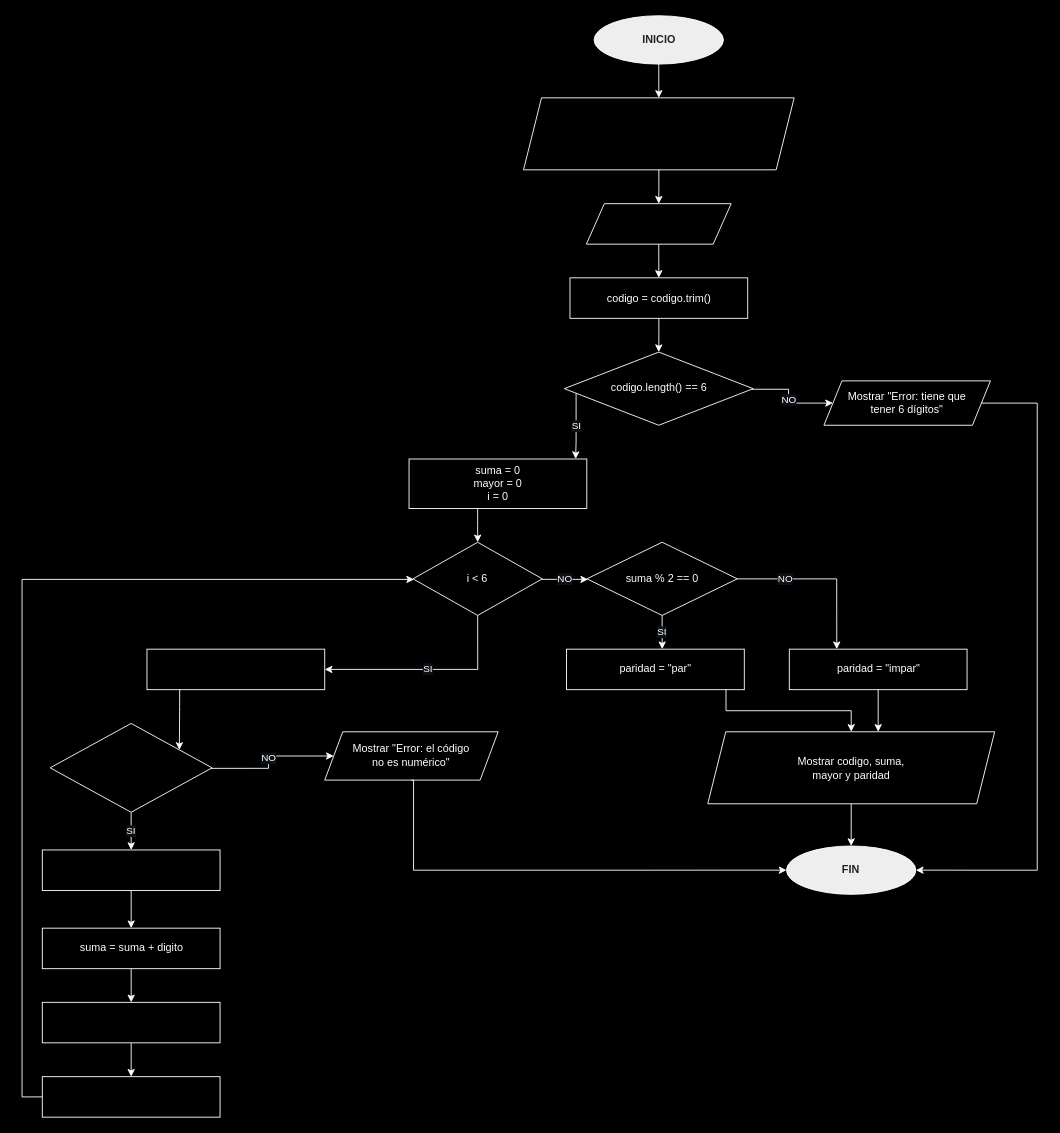
Some shapes in this 1060 by 1133 pixel diagram are drawn without their labels. Here are the shapes that lost their labels. From the top down, the centre of each, then its label:
point (658, 133): Mostrar "Introduce el código de 6 dígitos"
point (658, 223): Leer codigo
point (235, 669): caracter = codigo.substring(i, i + 1)
point (130, 767): caracter está entre "0" y "9"
point (130, 869): digito = Integer.parseInt(caracter)
point (130, 1022): mayor = Integer.max(mayor, digito)
point (130, 1096): i++
